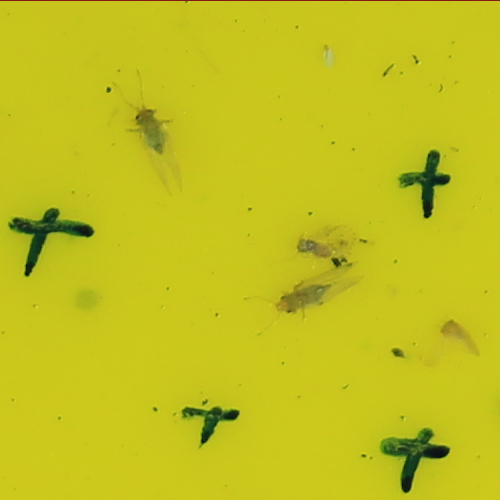psylla: (277, 281, 334, 316), (130, 102, 168, 153)
